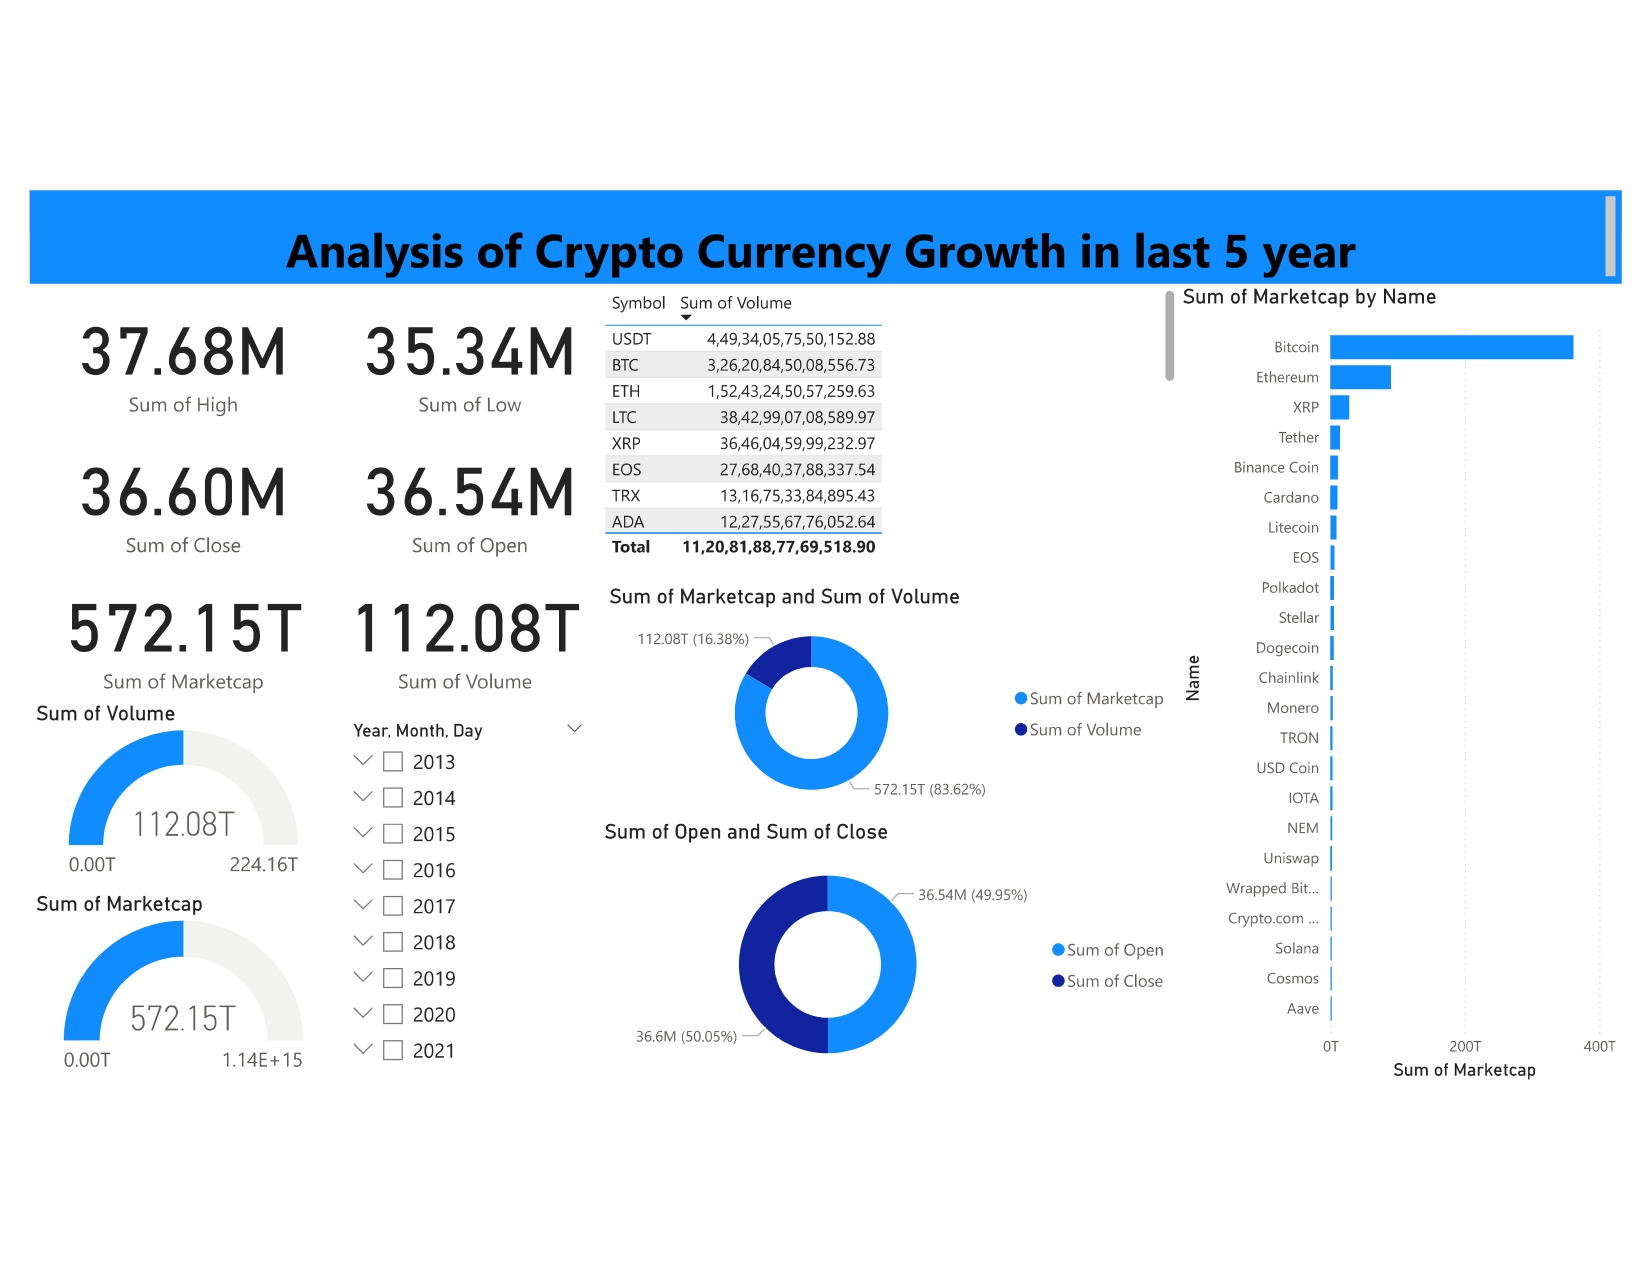

The dashboard page shown, as its layout file describes it:
{"tool":"powerbi","page":{"name":"Page 1","canvas":[1280,720],"ordinal":0},"visuals":[{"type":"donutChart","fields":{"Y":["Sum(CryptoData.Open)","Sum(CryptoData.Close)"]},"box":[456.9,505,469.3,215.4],"z":0},{"type":"clusteredBarChart","fields":{"Category":["CryptoData.Name"],"Y":["Sum(CryptoData.Marketcap)"]},"box":[922.1,75.5,358.1,644.9],"z":1000},{"type":"tableEx","fields":{"Values":["CryptoData.Symbol","Sum(CryptoData.Volume)"]},"box":[456.9,75.5,469.3,225],"z":2000},{"type":"donutChart","fields":{"Y":["Sum(CryptoData.Marketcap)","Sum(CryptoData.Volume)"]},"box":[461.1,315.6,465.2,189.4],"z":3000},{"type":"card","fields":{"Values":["Sum(CryptoData.High)"]},"box":[0,75.5,247,115.3],"z":4000},{"type":"card","fields":{"Values":["Sum(CryptoData.Low)"]},"box":[247,75.5,214.1,115.3],"z":5000},{"type":"gauge","fields":{"Y":["Sum(CryptoData.Marketcap)"]},"box":[0,562.6,247,157.8],"z":6000},{"type":"card","fields":{"Values":["Sum(CryptoData.Marketcap)"]},"box":[0,300.5,247,109.8],"z":7000},{"type":"card","fields":{"Values":["Sum(CryptoData.Close)"]},"box":[0,190.7,247,109.8],"z":8000},{"type":"card","fields":{"Values":["Sum(CryptoData.Open)"]},"box":[247,190.7,214.1,109.8],"z":9000},{"type":"card","fields":{"Values":["Sum(CryptoData.Volume)"]},"box":[242.9,300.5,214.1,109.8],"z":10000},{"type":"gauge","fields":{"Y":["Sum(CryptoData.Volume)"]},"box":[0,410.3,247,152.3],"z":10001},{"type":"slicer","fields":{"Values":["CryptoData.Date.Variation.Date Hierarchy.Year","CryptoData.Date.Variation.Date Hierarchy.Month","CryptoData.Date.Variation.Date Hierarchy.Day"]},"box":[247,421.3,209.9,299.1],"z":10002},{"type":"textbox","box":[0,0,1280.3,75.5],"z":10003}]}

Visuals, with their boxes on the page's 1280x720 design canvas (x1, y1, x2, y2). These are canvas units, not pixel positions in the 1650x1275 screenshot, which may show the page scaled, cropped or inside an application window:
donutChart - Sum(CryptoData.Open) x Sum(CryptoData.Close): (left=457, top=505, right=926, bottom=720)
clusteredBarChart - CryptoData.Name x Sum(CryptoData.Marketcap): (left=922, top=76, right=1280, bottom=720)
tableEx - CryptoData.Symbol x Sum(CryptoData.Volume): (left=457, top=76, right=926, bottom=300)
donutChart - Sum(CryptoData.Marketcap) x Sum(CryptoData.Volume): (left=461, top=316, right=926, bottom=505)
card - Sum(CryptoData.High): (left=0, top=76, right=247, bottom=191)
card - Sum(CryptoData.Low): (left=247, top=76, right=461, bottom=191)
gauge - Sum(CryptoData.Marketcap): (left=0, top=563, right=247, bottom=720)
card - Sum(CryptoData.Marketcap): (left=0, top=300, right=247, bottom=410)
card - Sum(CryptoData.Close): (left=0, top=191, right=247, bottom=300)
card - Sum(CryptoData.Open): (left=247, top=191, right=461, bottom=300)
card - Sum(CryptoData.Volume): (left=243, top=300, right=457, bottom=410)
gauge - Sum(CryptoData.Volume): (left=0, top=410, right=247, bottom=563)
slicer - CryptoData.Date.Variation.Date Hierarchy.Year x CryptoData.Date.Variation.Date Hierarchy.Month: (left=247, top=421, right=457, bottom=720)
textbox: (left=0, top=0, right=1280, bottom=76)
